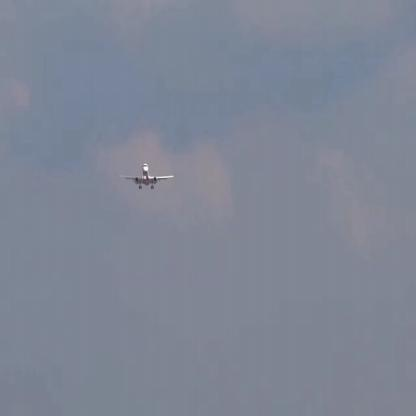CIV_Plane: (122, 165, 174, 193)
